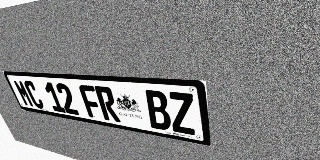1: (42, 82, 66, 113)
2: (54, 83, 79, 115)
B: (143, 90, 172, 131)
C: (22, 80, 46, 109)
F: (78, 85, 104, 120)
M: (12, 79, 35, 108)
R: (94, 86, 121, 122)
Z: (167, 92, 197, 136)
